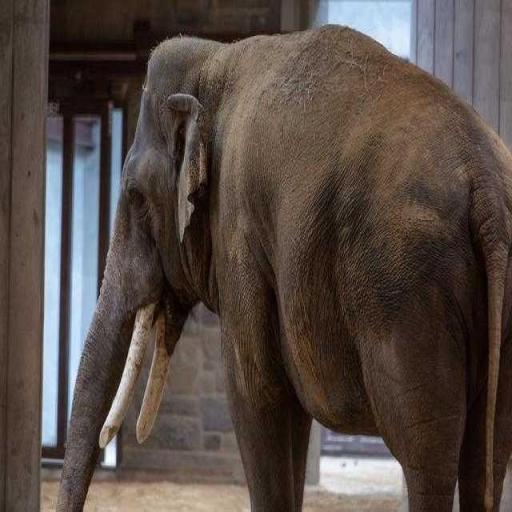Elephant: (54, 23, 512, 511)
